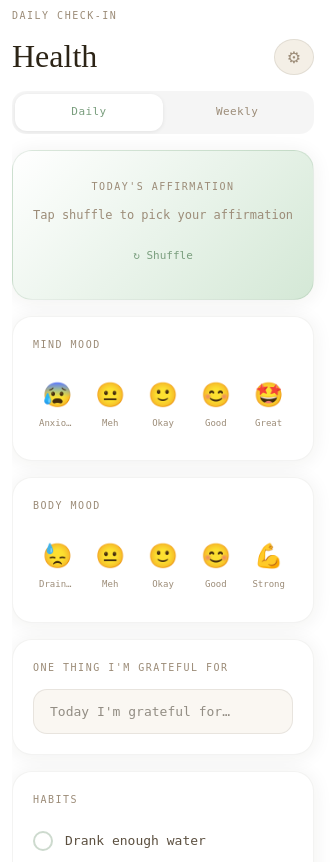
it: HealthScreen – Settings › shows custom habits with Remove buttons
The width and height of the screenshot is (332, 862).
Click the button "⚙". click: coordinates (294, 57)
box: [274,39,314,75]
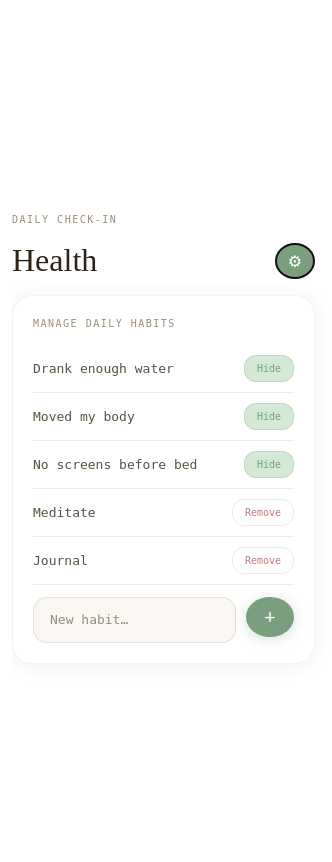
Expected: the text "Meditate" is shown, [33,502,96,523]
Expected: the number of buttons "Remove" is 2, [232,499,294,526]; [232,547,294,574]
